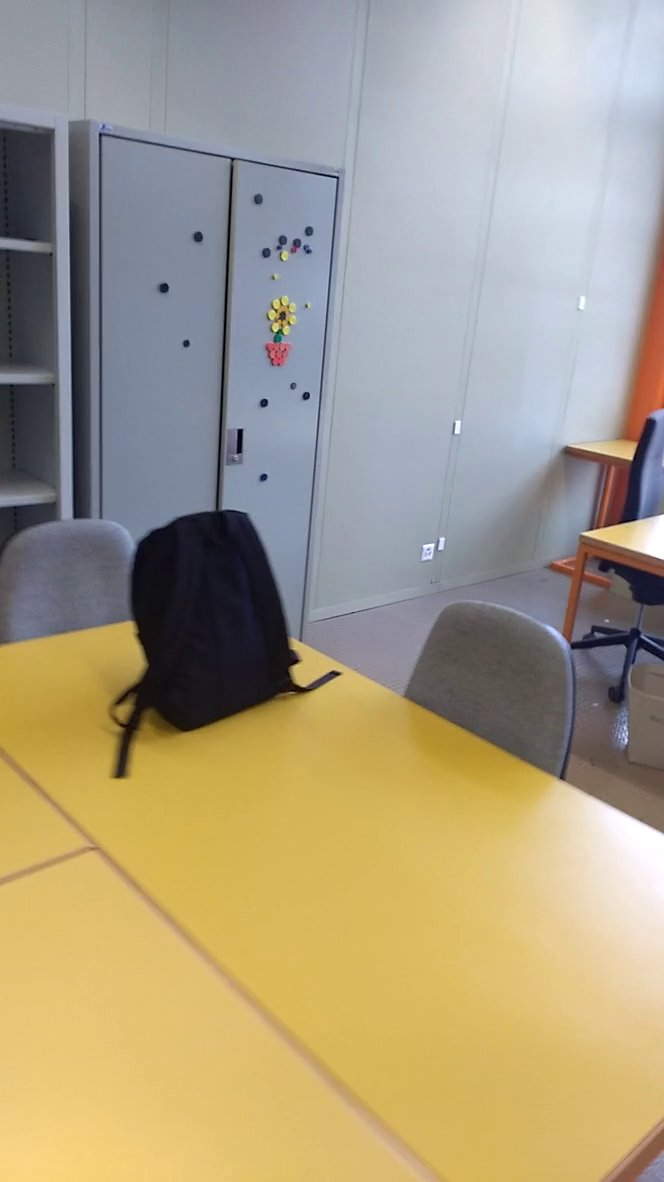bag: (105, 505, 347, 784)
chair: (387, 584, 587, 817), (2, 513, 149, 647)
